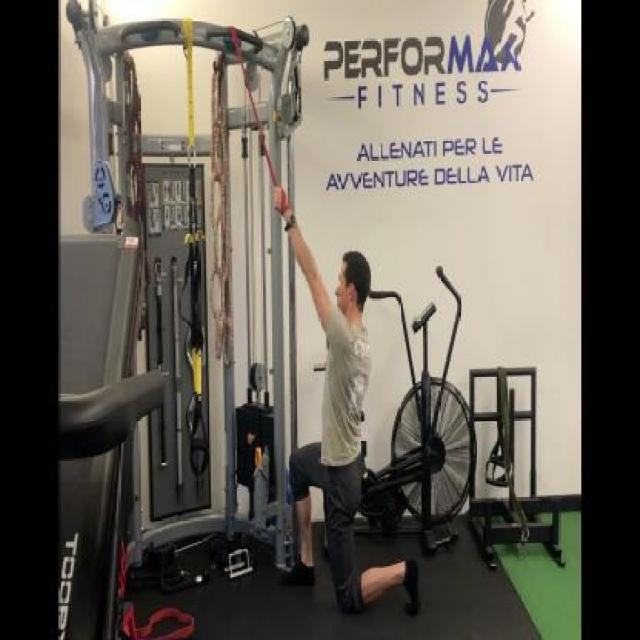Lat Pull Down: (63, 0, 425, 640)
